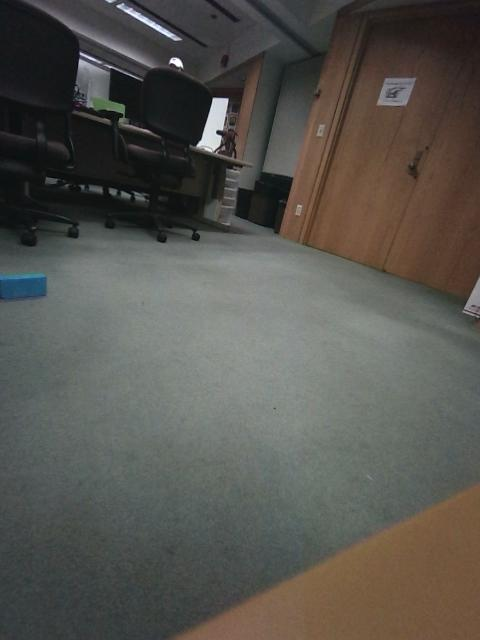block: (341, 280, 374, 310)
